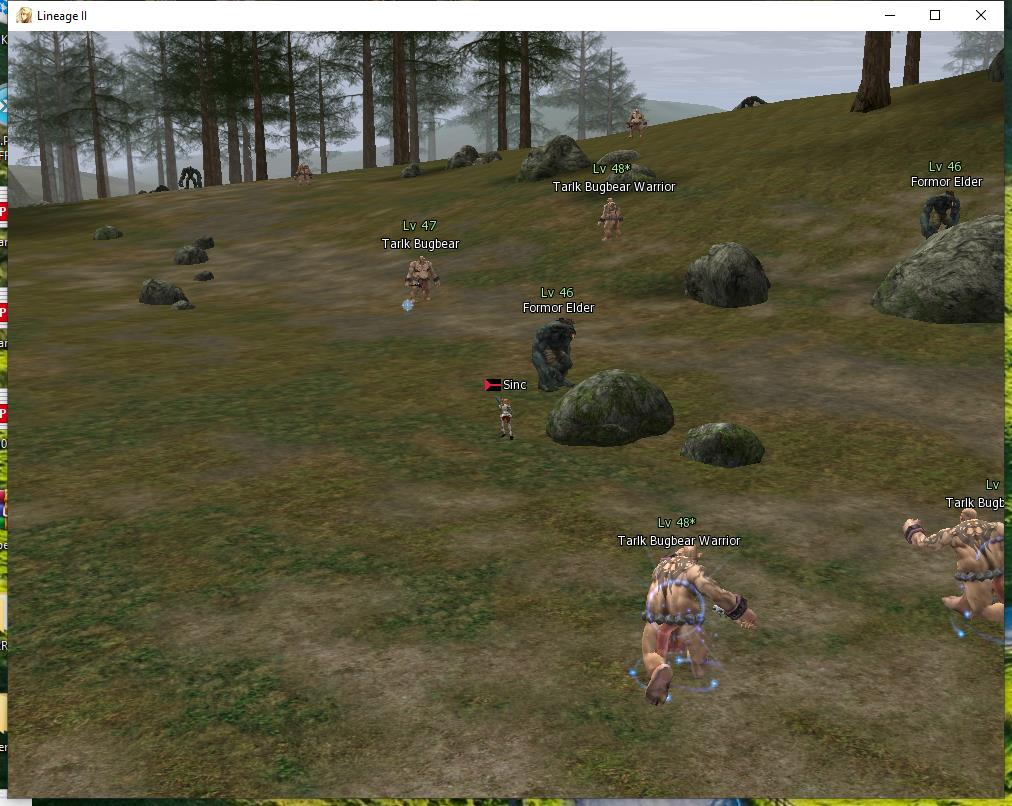monster: (612, 497, 757, 711), (901, 448, 1007, 648), (544, 144, 681, 256), (516, 266, 592, 403), (379, 217, 450, 312), (903, 145, 967, 243), (624, 102, 661, 145), (171, 156, 211, 188), (292, 160, 324, 189)
